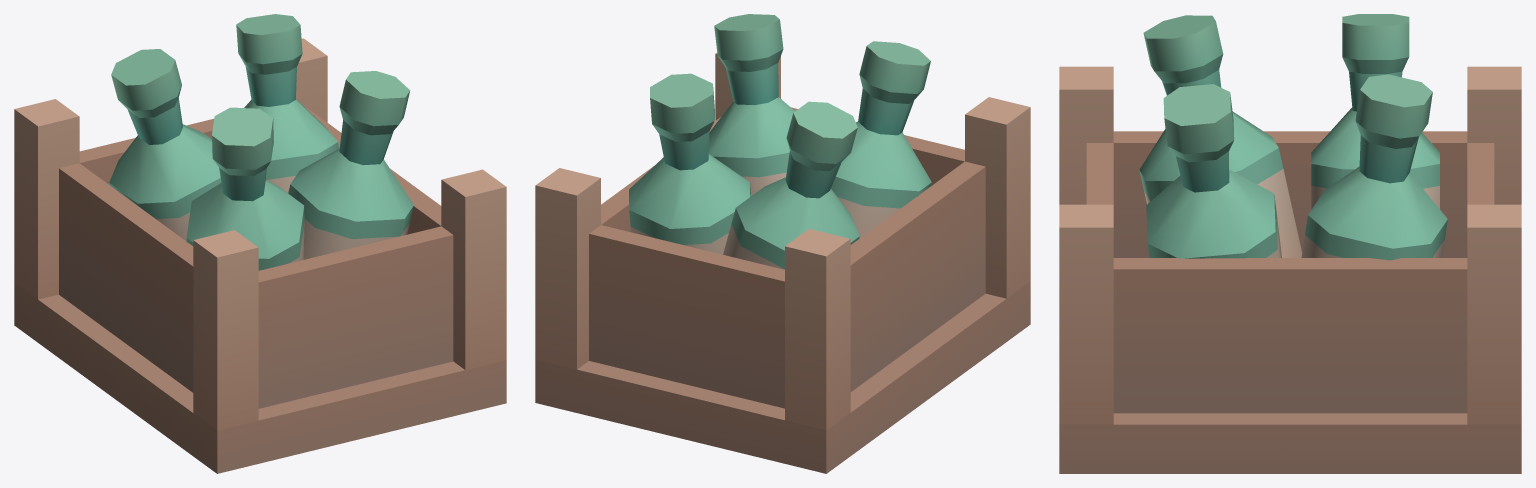
File: crate-bottles.glb
3 views of the same model, side by side, from view 1: azimuth 30°, elevation 25°; view 2: azimuth 150°, elevation 25°; view 3: azimuth 270°, elevation 25° (orthographic). The views are drawn at different scales.
Parts seen in each view (by area): view 1: crate-bottles; view 2: crate-bottles; view 3: crate-bottles.
Part boxes in pixels (left/top/right/bottom): crate-bottles: left=14, top=14, right=506, bottom=473; crate-bottles: left=535, top=14, right=1030, bottom=473; crate-bottles: left=1059, top=14, right=1521, bottom=473.
Size of the model in its own units: 1.08 by 1.06 by 1.31.
